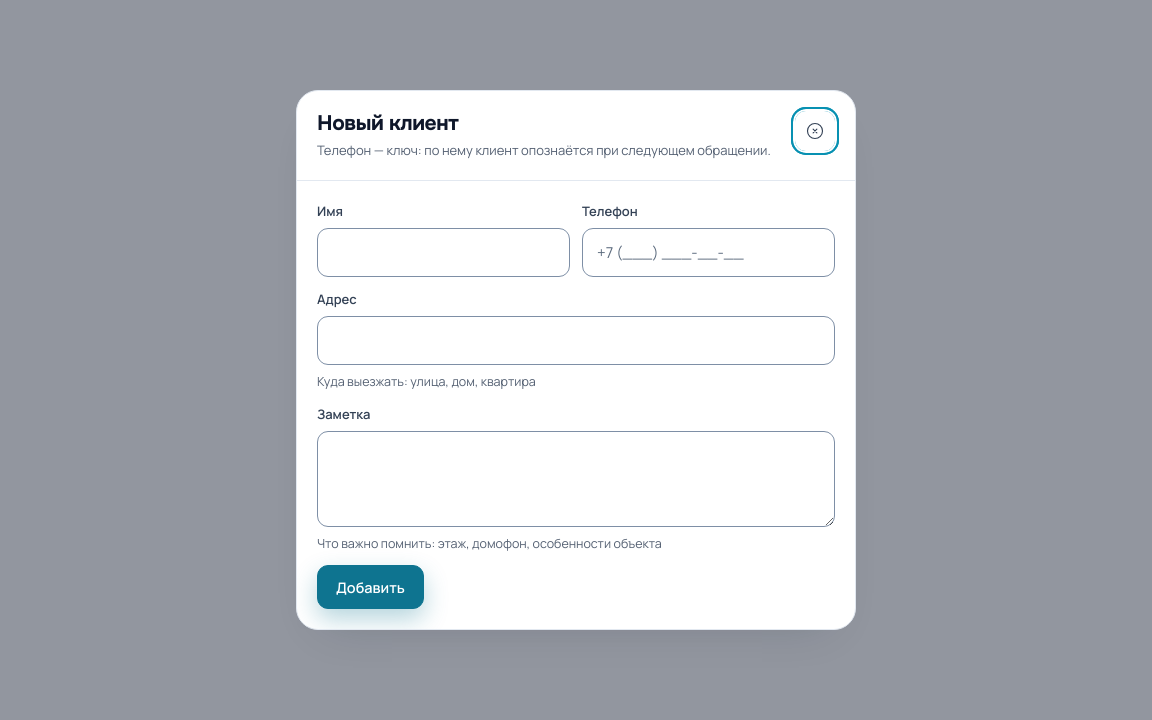
Test case: Окно заведения клиента › 🔴 заполненная форма по Escape спрашивает, а не закрывается молча
This screenshot has width=1152, height=720.
Type "Ирина" into the field labelled "Имя". click: coordinates (444, 253)
box: 317,228 -> 570,277
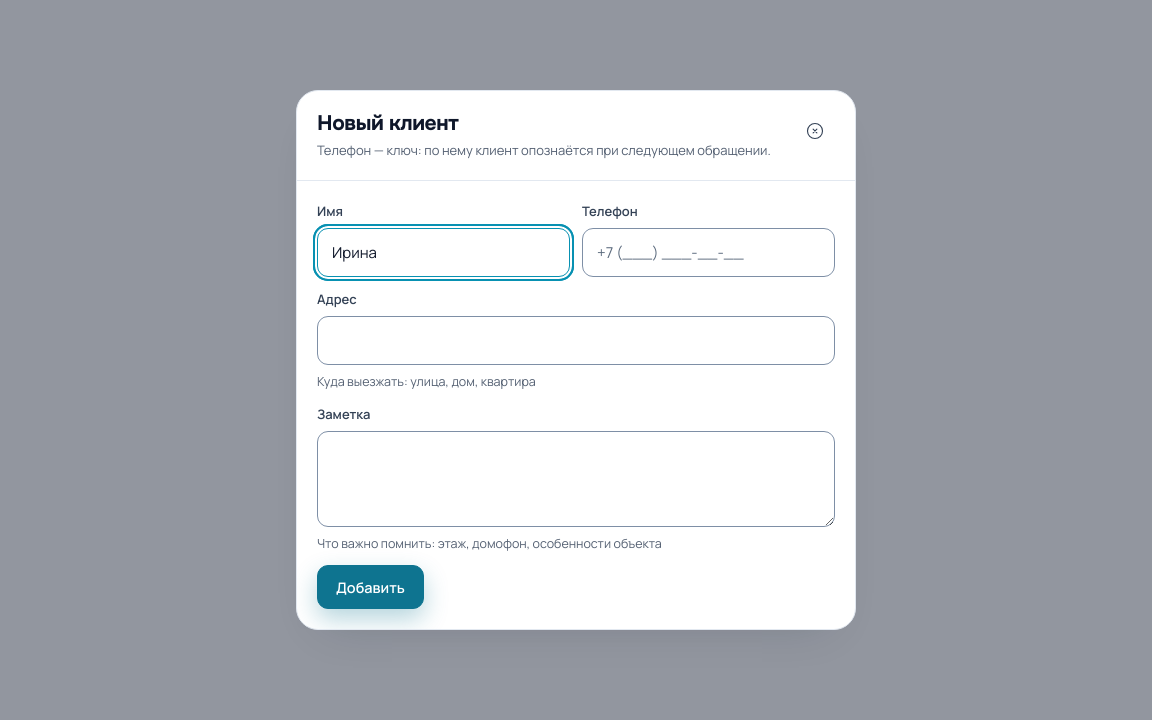
Press Escape
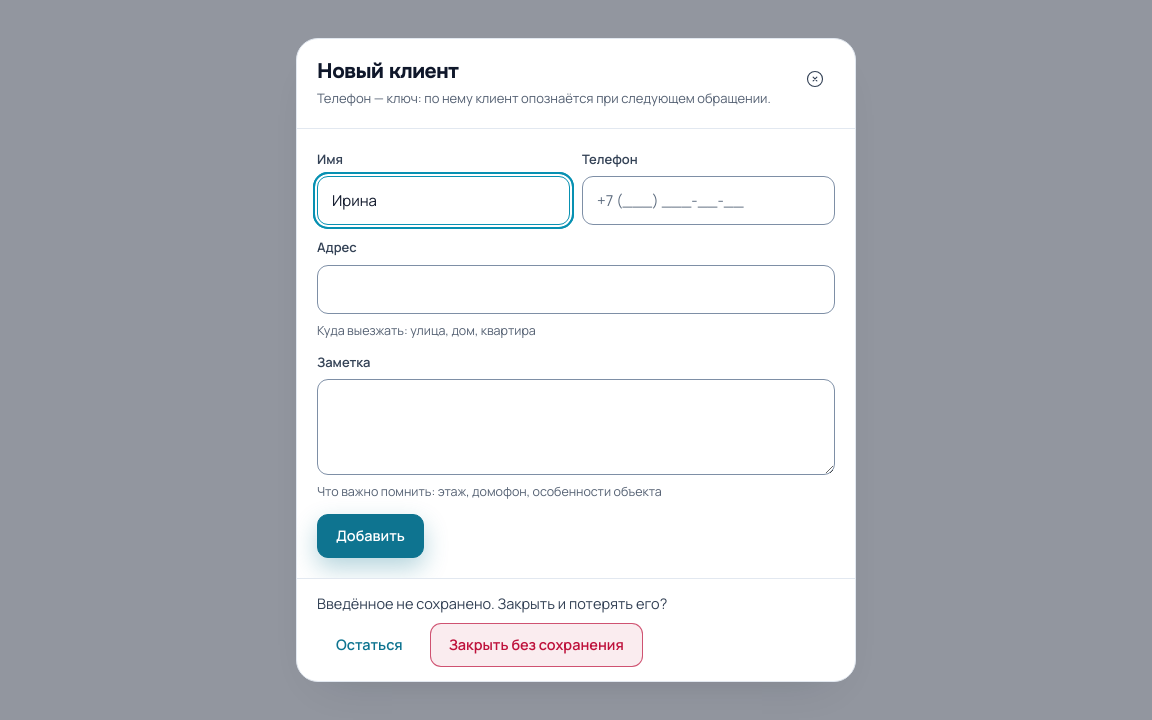
Result: the dialog is shown at 317,594 -> 667,667
